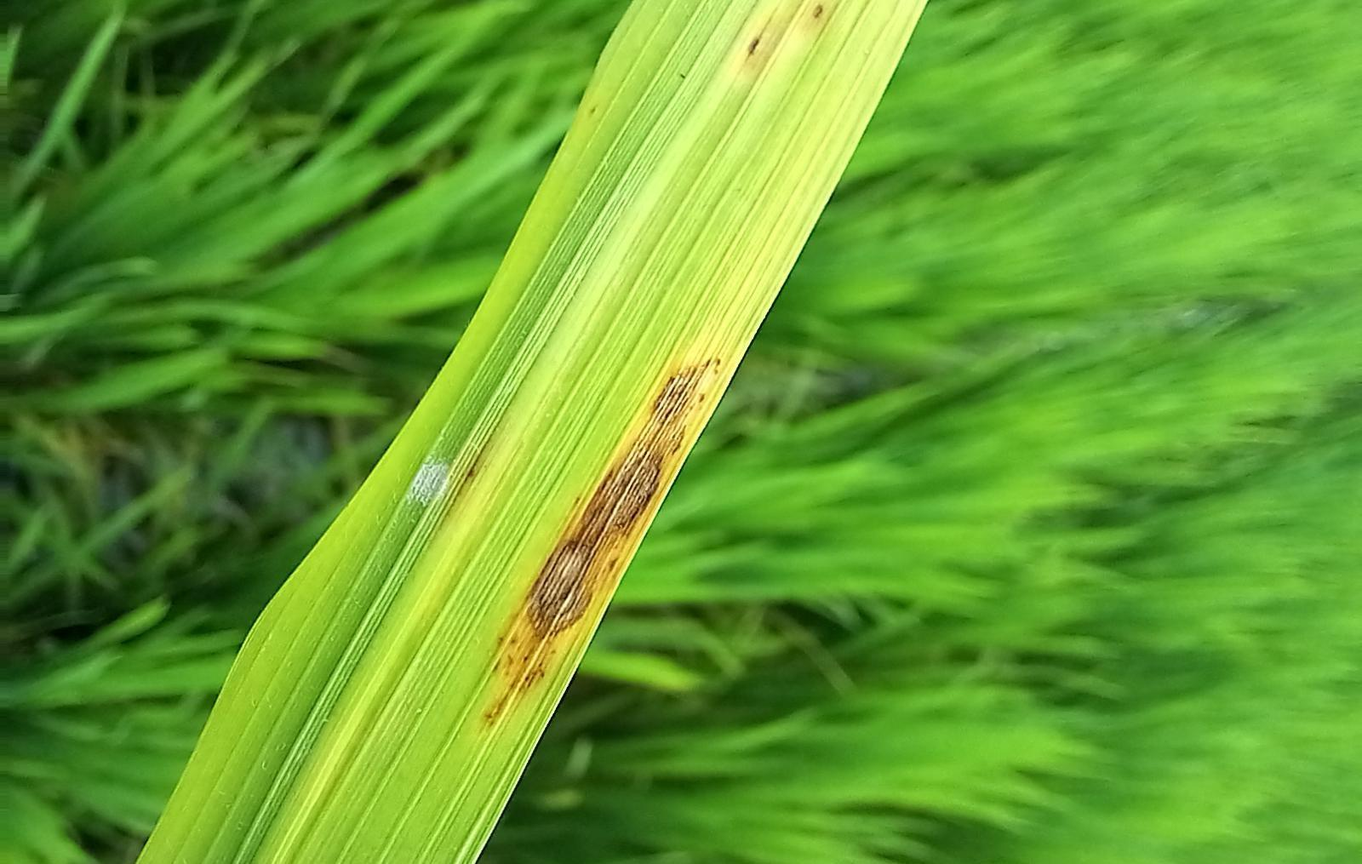LEAF: (139, 0, 924, 863)
LEAF BLAST: (522, 358, 722, 646)
